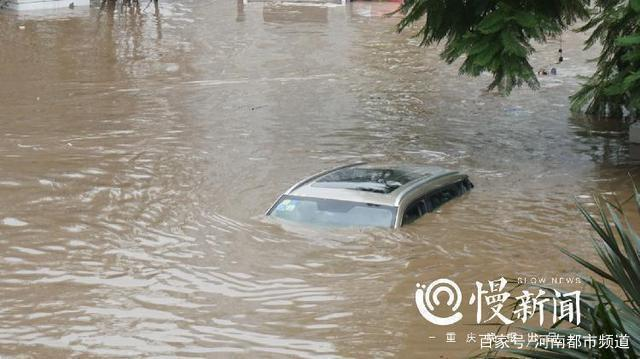water: (0, 0, 629, 225)
